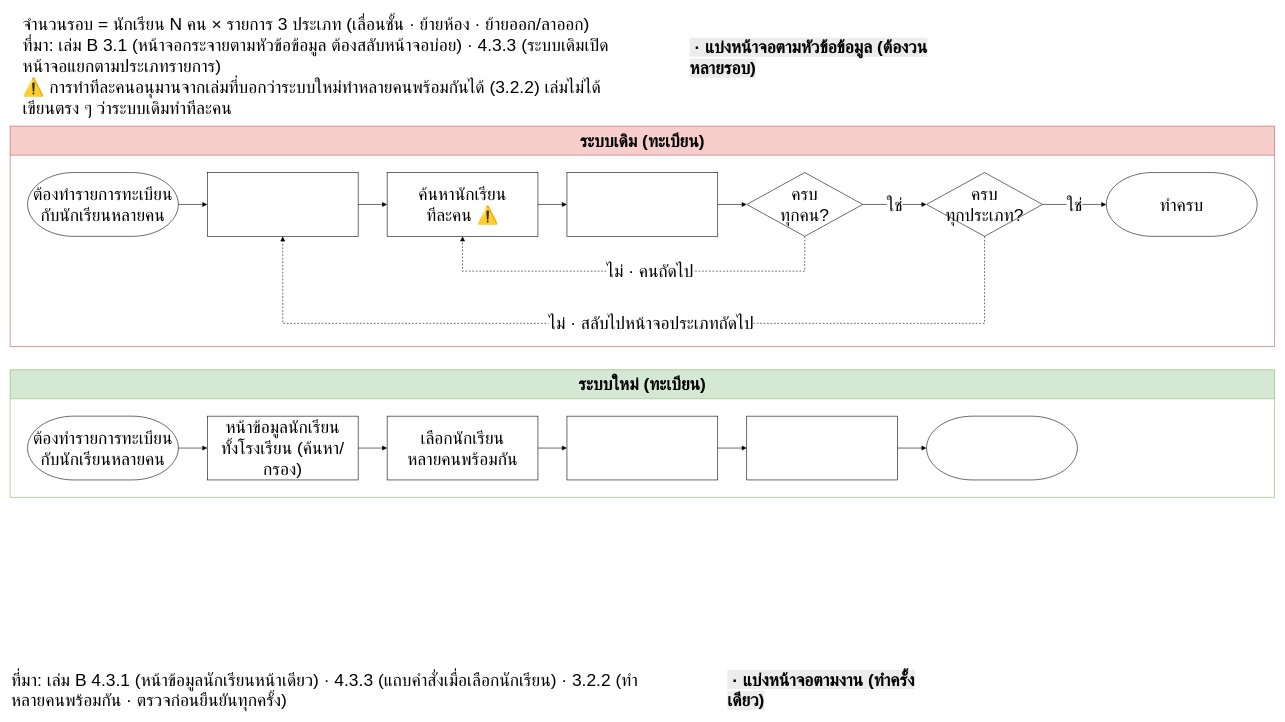
Some shapes in this 1285 by 722 pixel diagram are drawn without their labels. Each missing label, with the centre of its shape:
ตรวจผล ก่อนยืนยัน: the point at 822,448
ทำครบ (อยู่หน้าเดียว): the point at 1001,448
บันทึกรายการ ของคนนั้น: the point at 642,204
เปิดหน้าจอรายการ ทีละประเภท: the point at 282,204
แถบคำสั่งด้านล่าง เลือกประเภทรายการ: the point at 642,448
